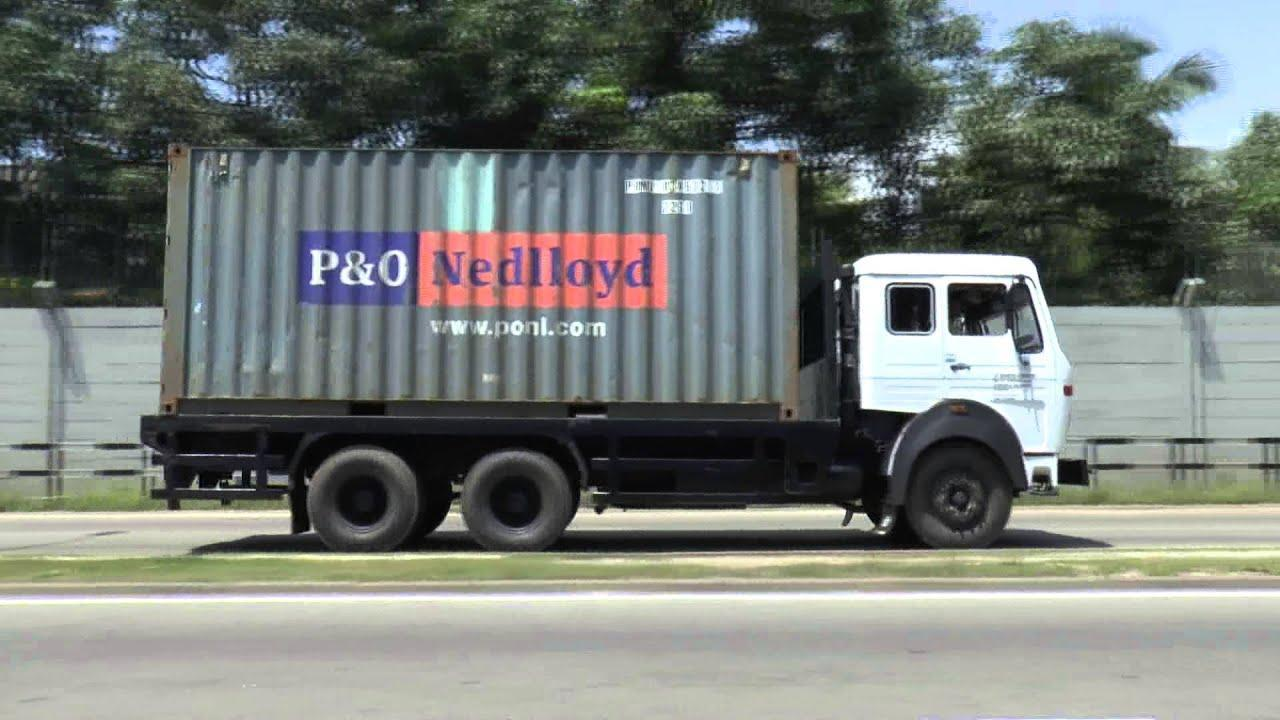truck: (142, 141, 1090, 553)
